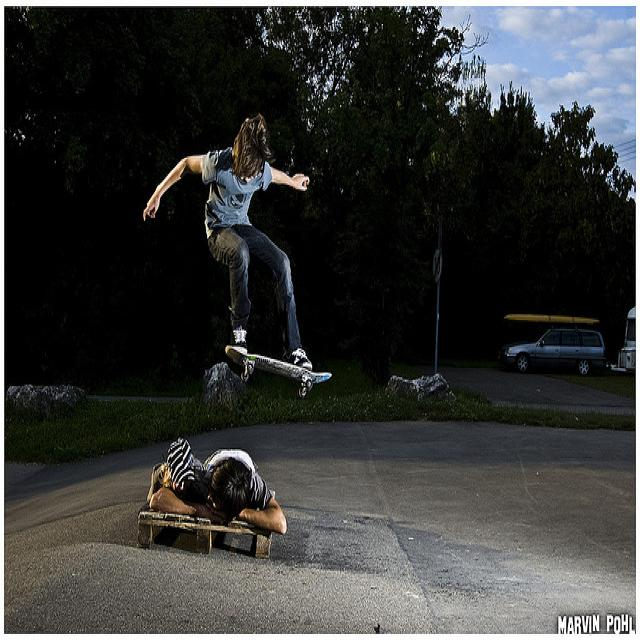Vehicle: (498, 319, 608, 376), (504, 314, 600, 351)
